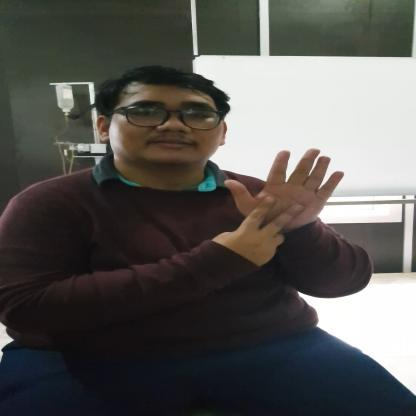N: (217, 147, 348, 254)
